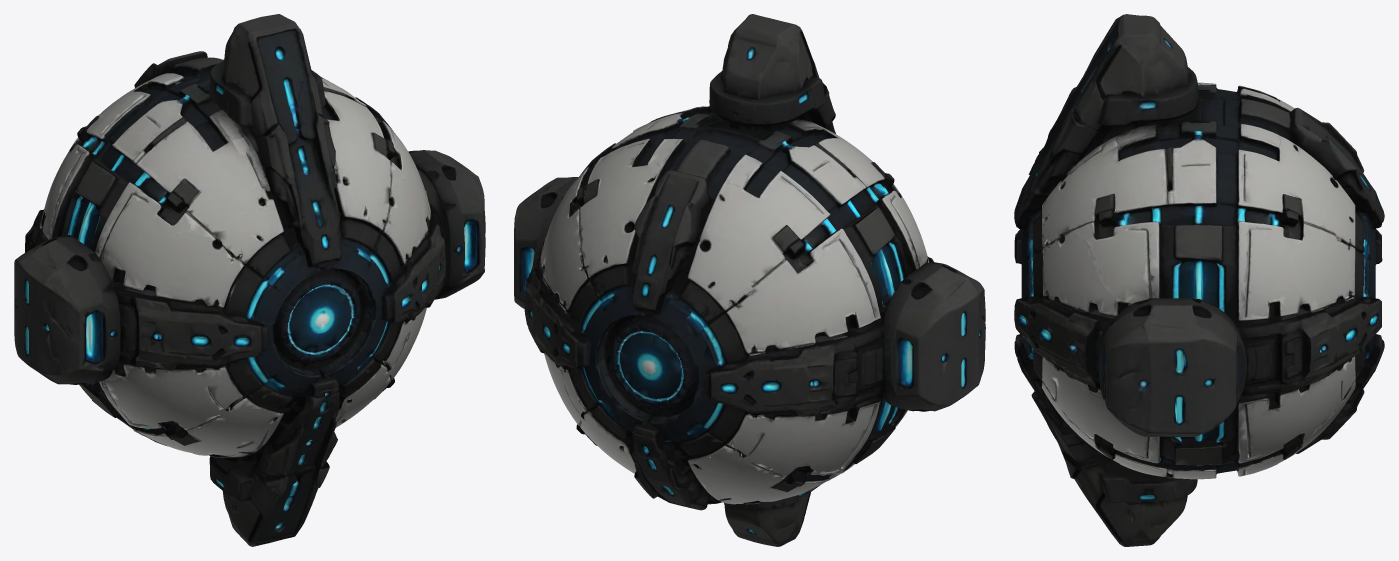
File: pet-drone-lv3.glb
3 views of the same model, side by side, from view 1: azimuth 30°, elevation 25°; view 2: azimuth 150°, elevation 25°; view 3: azimuth 270°, elevation 25° (orthographic).
Visible parts, largest first — view 1: tripo_node_6e9f9b04-927a-426e-9991-2037c472cf4a; view 2: tripo_node_6e9f9b04-927a-426e-9991-2037c472cf4a; view 3: tripo_node_6e9f9b04-927a-426e-9991-2037c472cf4a.
Boxes of the visible parts, box(x1,y1,x2,y2) form: tripo_node_6e9f9b04-927a-426e-9991-2037c472cf4a: box(14, 14, 485, 546); tripo_node_6e9f9b04-927a-426e-9991-2037c472cf4a: box(514, 14, 985, 546); tripo_node_6e9f9b04-927a-426e-9991-2037c472cf4a: box(1014, 14, 1384, 546).
Size of the model in its own units: 0.8737 by 0.9802 by 0.6431.
Materials: 1 (1 with a texture image).
